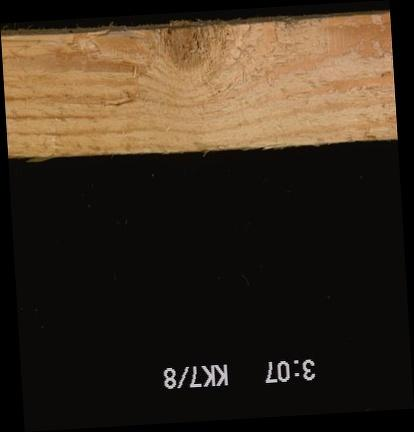edge_knot: (159, 15, 227, 69)
wave: (75, 21, 147, 43)
